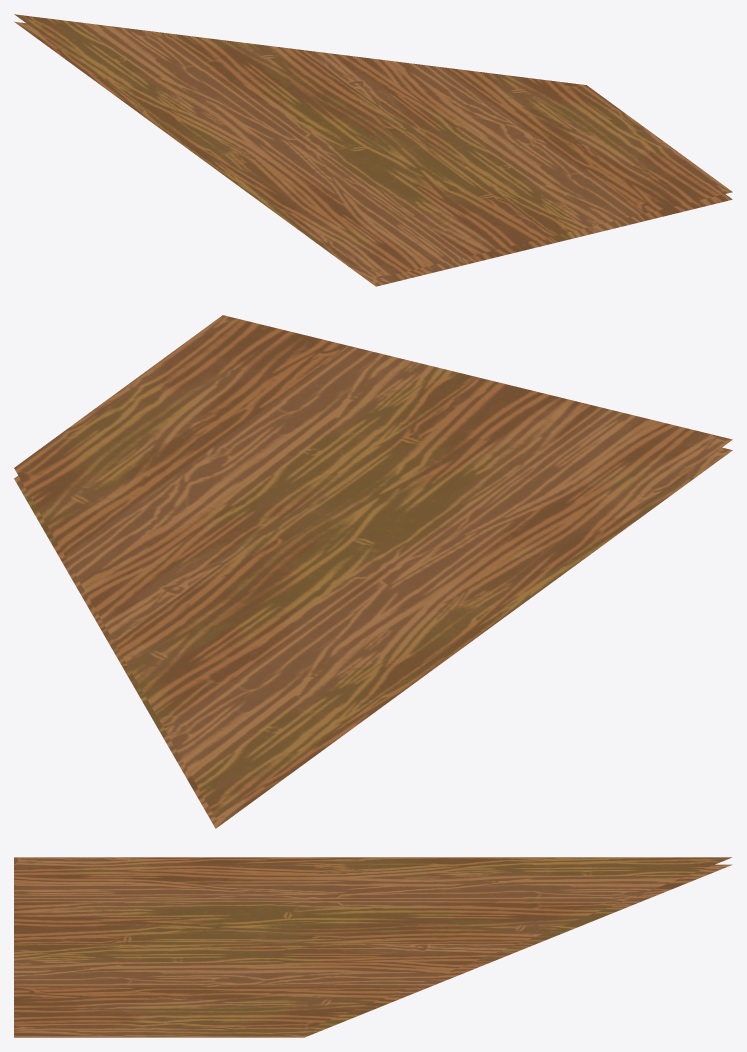
The model's file is Floor_WoodLight_OverhangCorner.gltf.
3 views of the same model, one above another, from view 1: azimuth 30°, elevation 25°; view 2: azimuth 150°, elevation 25°; view 3: azimuth 270°, elevation 25° (orthographic). The views are drawn at different scales.
Parts seen in each view (by area): view 1: Floor_WoodLight_OverhangCorner; view 2: Floor_WoodLight_OverhangCorner; view 3: Floor_WoodLight_OverhangCorner.
Part boxes in pixels (x1=…): Floor_WoodLight_OverhangCorner: x1=14, y1=14, x2=732, y2=286; Floor_WoodLight_OverhangCorner: x1=14, y1=315, x2=732, y2=828; Floor_WoodLight_OverhangCorner: x1=14, y1=857, x2=732, y2=1037.
Size of the model in its own units: 1 by 0.02 by 1.76.
Materials: 1 (1 with a texture image).
